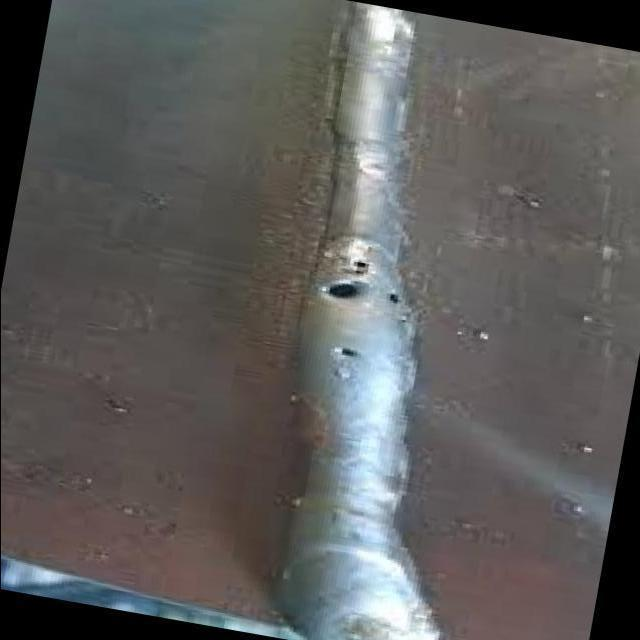defect: (319, 257, 371, 304), (378, 286, 415, 310), (330, 340, 363, 360)
